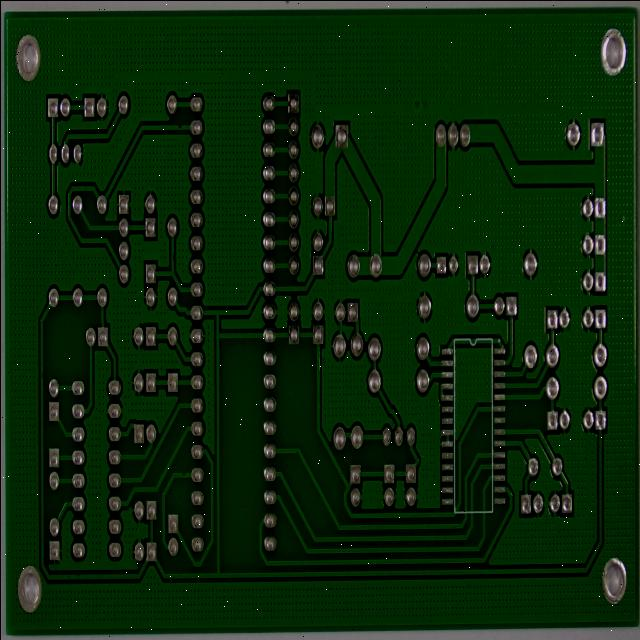mouse_bite: (146, 150, 155, 167), (150, 585, 158, 603), (140, 311, 146, 331)
